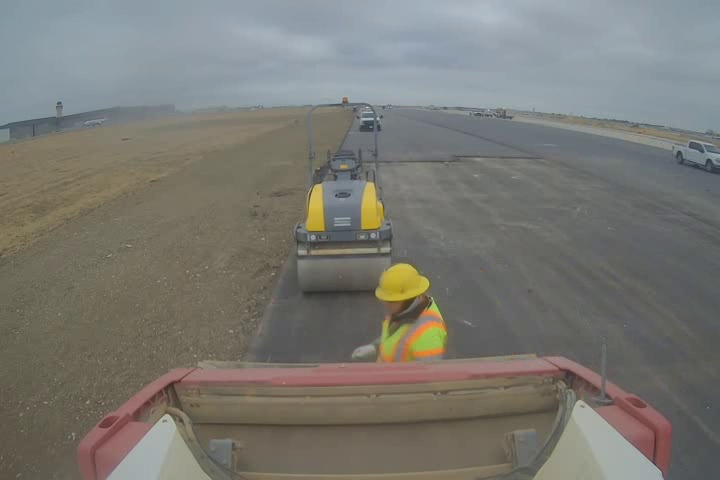person: (345, 257, 453, 369)
vehicle: (72, 351, 671, 480), (293, 102, 394, 293), (671, 132, 720, 171), (351, 108, 385, 130)
vest: (372, 297, 451, 362)
yellow_helmet: (371, 259, 431, 321)
